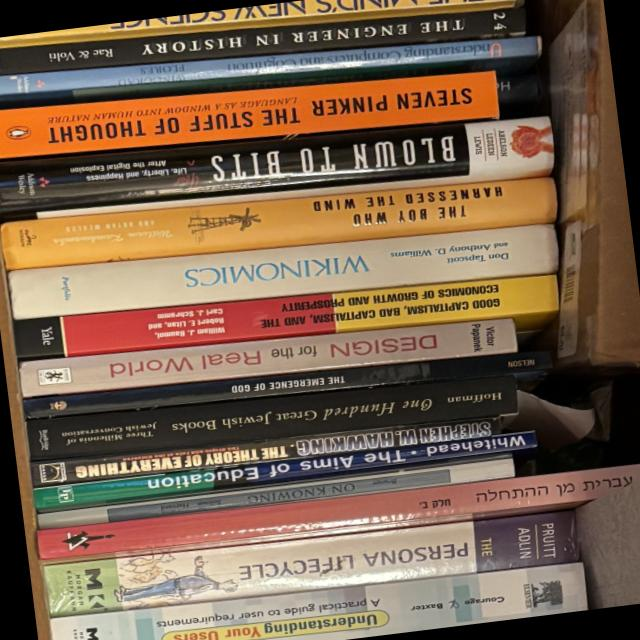book: (35, 462, 640, 567), (0, 115, 555, 222), (43, 508, 578, 618), (7, 222, 559, 320), (0, 175, 557, 271), (11, 274, 560, 371), (50, 553, 587, 640), (32, 425, 538, 514), (25, 372, 518, 463), (0, 69, 498, 159), (18, 315, 516, 398), (0, 34, 543, 110), (35, 454, 514, 532), (22, 349, 551, 419), (0, 6, 526, 76), (29, 411, 500, 488), (0, 0, 515, 49)
